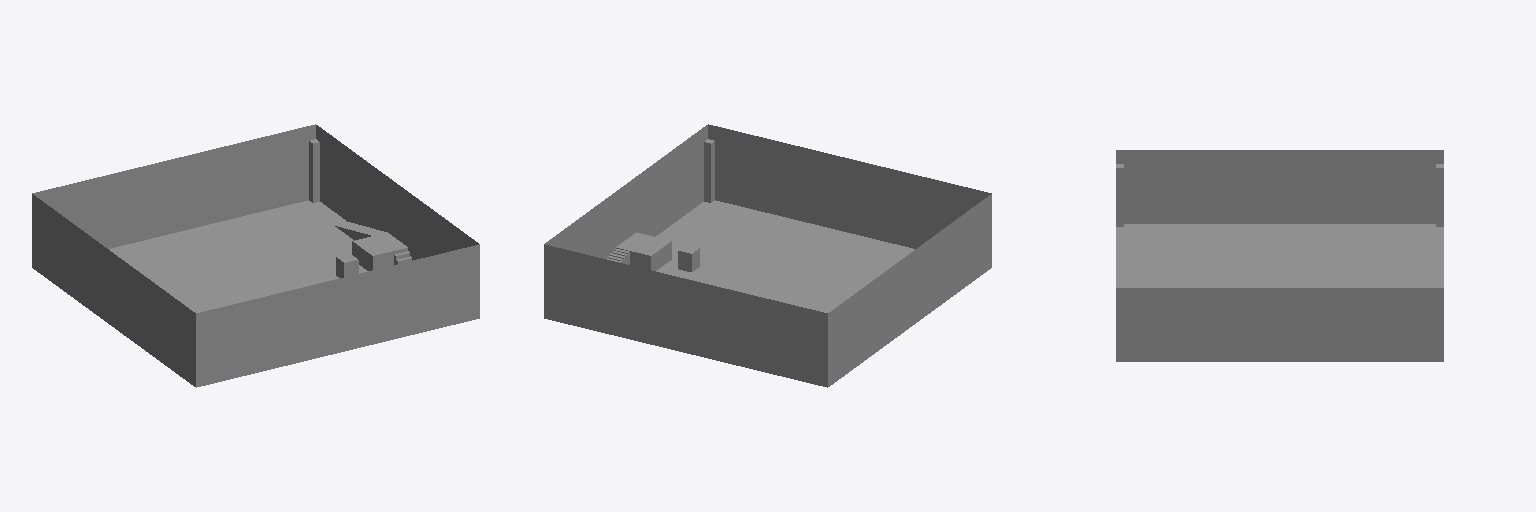
Rendered from TechDemoMap.obj.
3 views of the same model, side by side, from view 1: azimuth 30°, elevation 25°; view 2: azimuth 150°, elevation 25°; view 3: azimuth 270°, elevation 25° (orthographic).
Parts seen in each view (by area): view 1: Walls_Plane.001, Floors_Plane; view 2: Walls_Plane.001, Floors_Plane; view 3: Walls_Plane.001, Floors_Plane.
Boxes of the visible parts, <box> form: Walls_Plane.001: <box>32,124,479,387</box>; Floors_Plane: <box>109,139,411,312</box>; Walls_Plane.001: <box>544,124,991,387</box>; Floors_Plane: <box>607,139,914,312</box>; Walls_Plane.001: <box>1116,150,1443,361</box>; Floors_Plane: <box>1116,164,1443,287</box>.
Bounding box in the file's own units: 80 × 20 × 80.